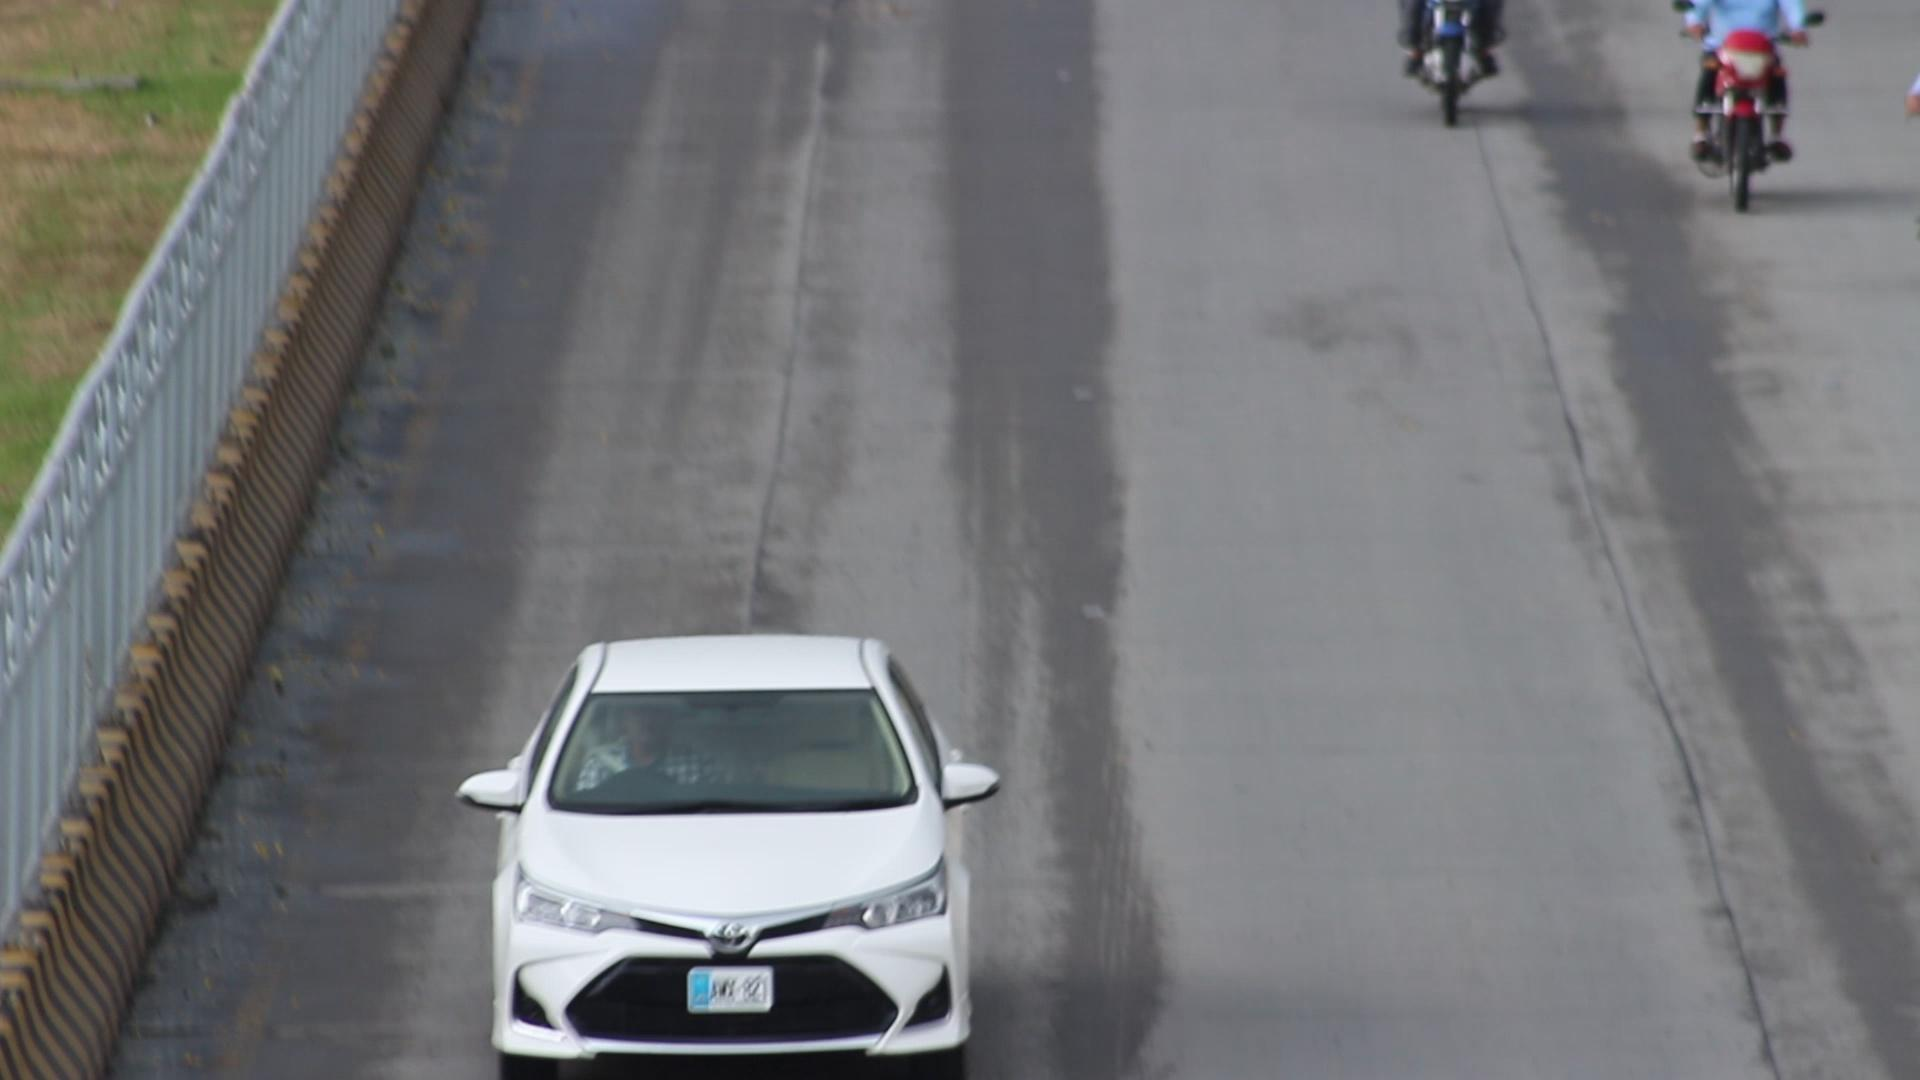windshield: (527, 674, 934, 823)
